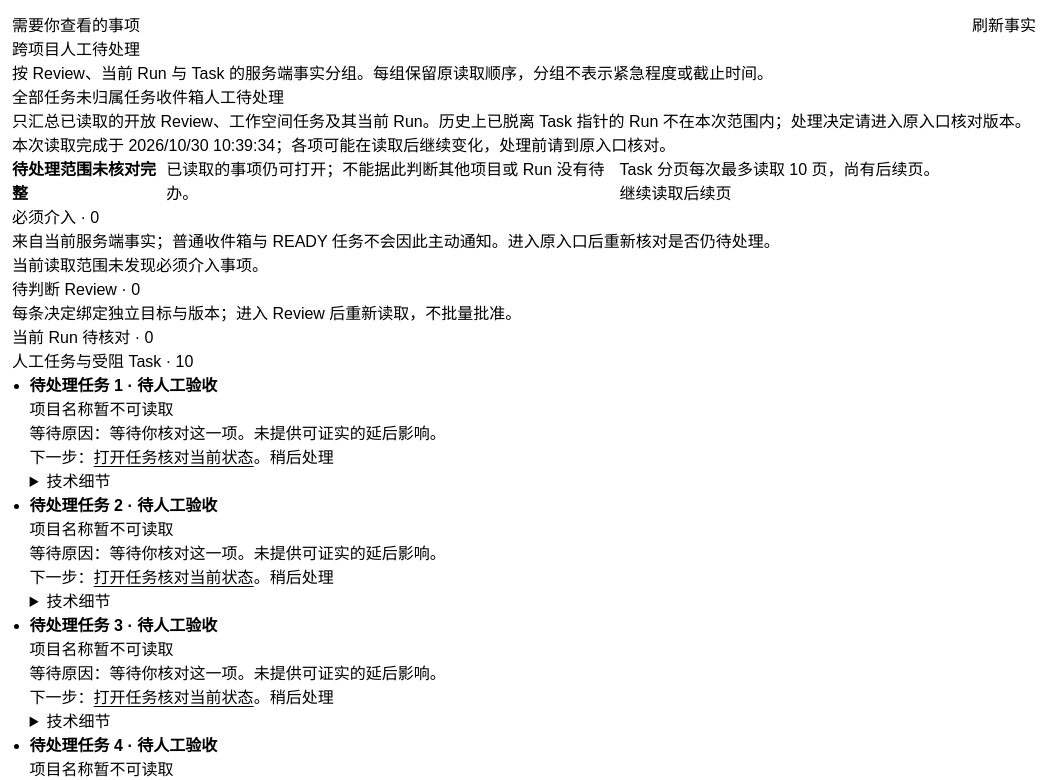
it: 人工待处理队列的续页恢复（禅道 #131） › 后续页失败时保留失败页身份与继续入口，首批任务与未核对完整警告都还在
What coordinates should you click on to do the following:
click the button with test id "attention-continue-pages"
I would click on:
 (676, 192)
Its box is [620,180,732,204].
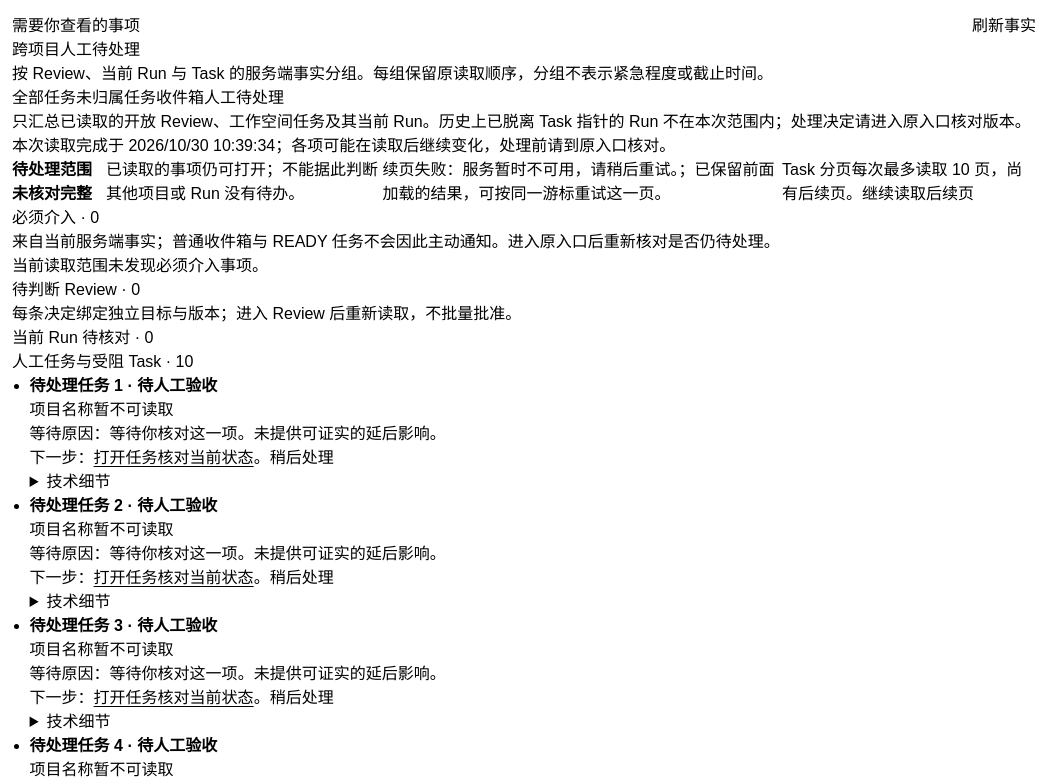
Expected: the message with test id "attention-incomplete" is shown, [12,156,1036,204]
Result: the text "服务暂时不可用" is shown at [462,161,678,178]
